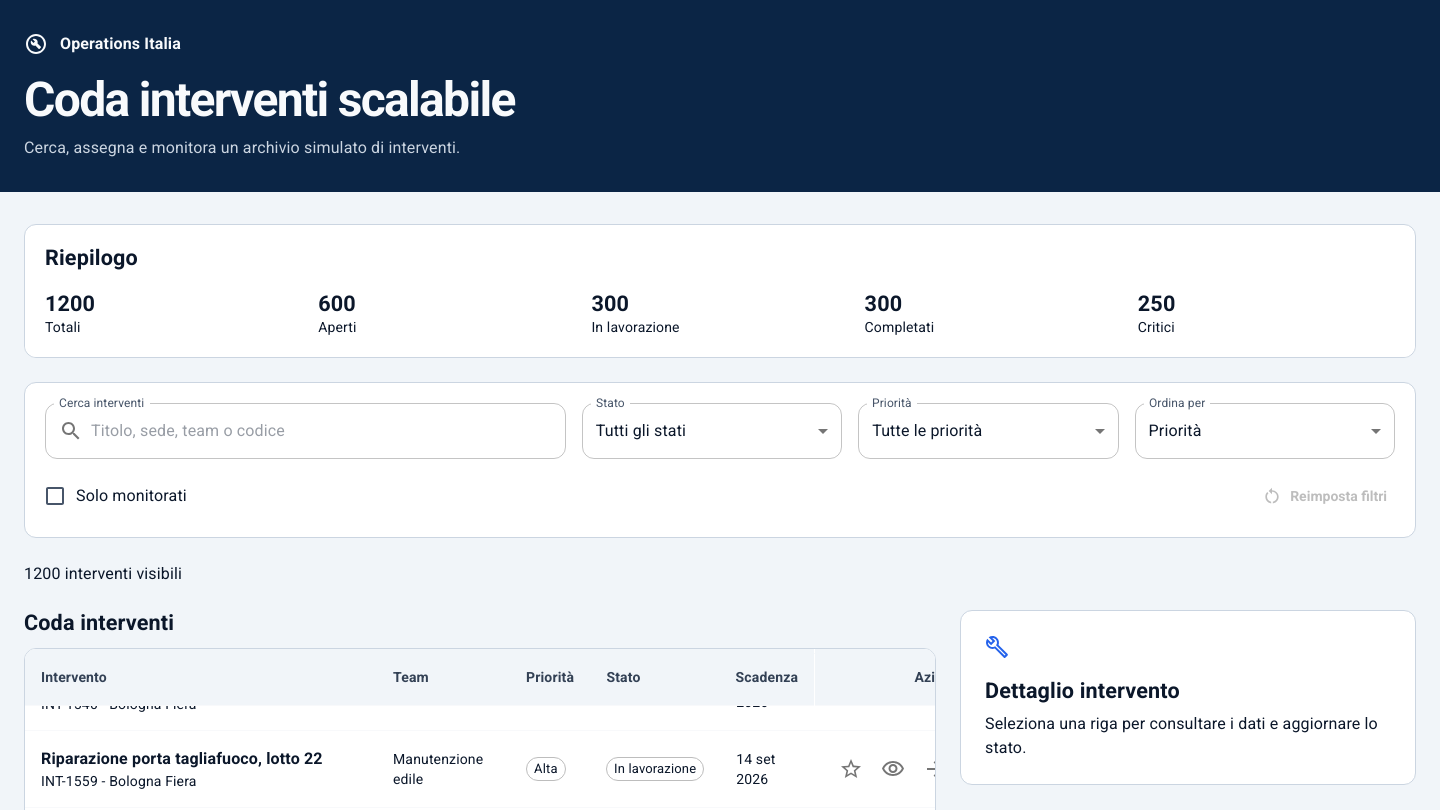
Scenario: Coda interventi scalabile › torna all'inizio quando un filtro riduce una lista già scorsa
(page scrolled)
Expected: the text "Ripristino gruppo di continuità" is not shown
Type "INT-1048" into the field labelled "Cerca interventi" at (328, 431), box left=91, top=403, right=566, bottom=459
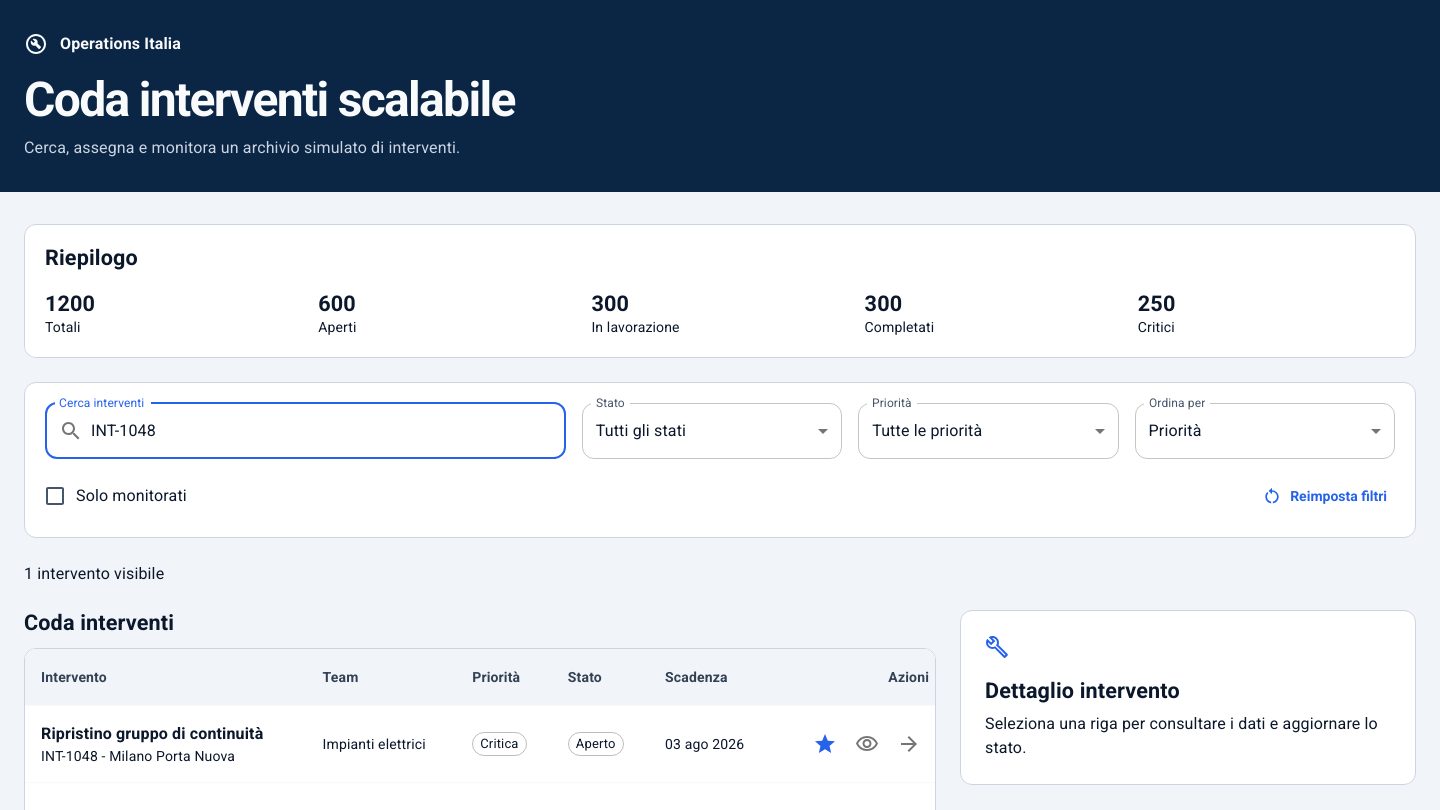
Expected: the text "1 intervento visibile" is shown, left=24, top=564, right=164, bottom=583
Expected: the text "Ripristino gruppo di continuità" is shown, left=41, top=722, right=291, bottom=746
